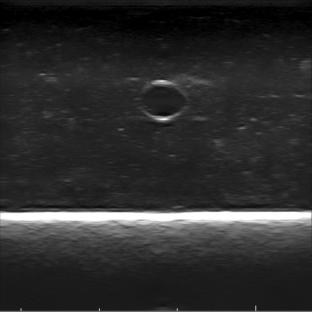vessel: (139, 79, 190, 122)
